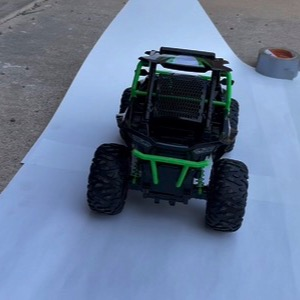polaris: (87, 45, 250, 233)
